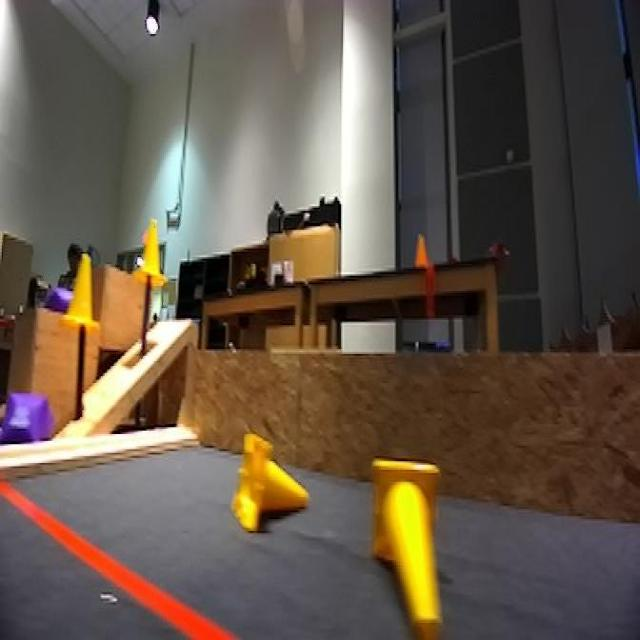frc_cone: (368, 458, 450, 640), (231, 434, 300, 538), (66, 249, 100, 337), (137, 219, 171, 298)
frc_cube: (0, 392, 49, 451), (39, 286, 78, 313)
